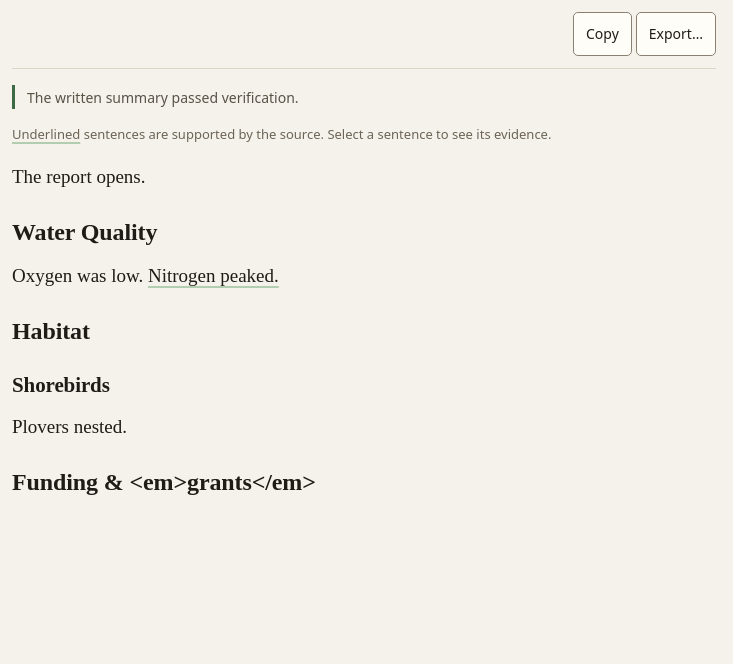
SummaryView › selects a sentence under a heading and shows its evidence before the next heading
The image size is (733, 664).
Click the button "Nitrogen peaked." at (213, 276), box [148, 265, 279, 286]
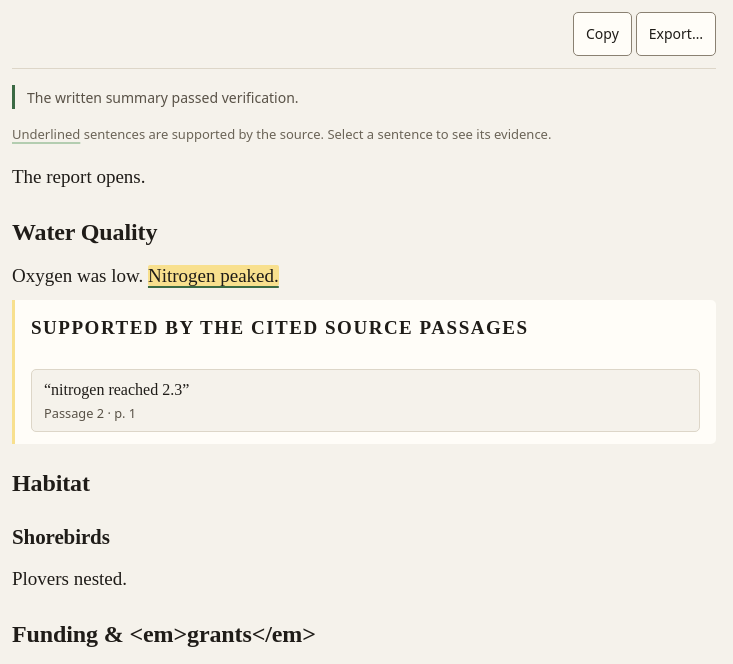
Check: the text "nitrogen reached 2.3" is shown, box [44, 378, 189, 402]
